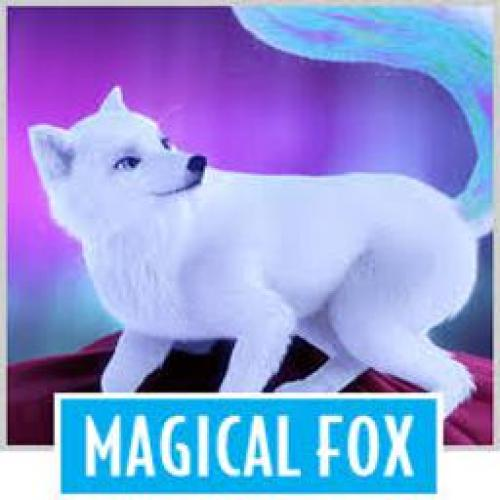arctic_fox-endangered: (33, 12, 500, 428)
